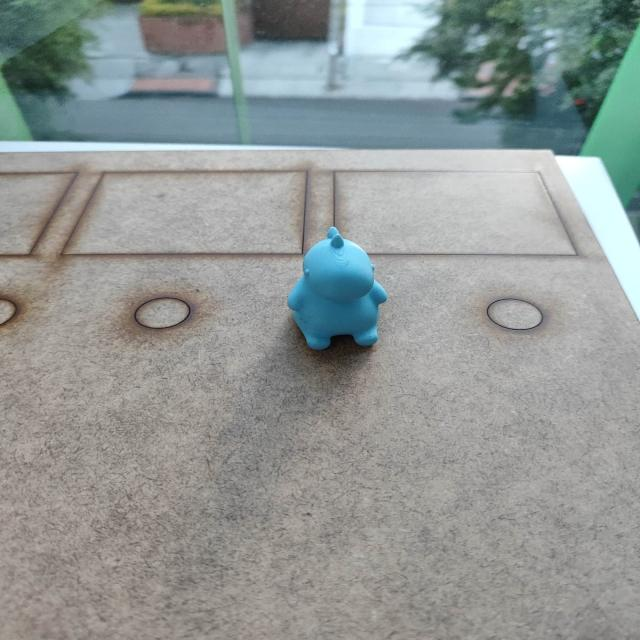DINO: (265, 215, 409, 368)
